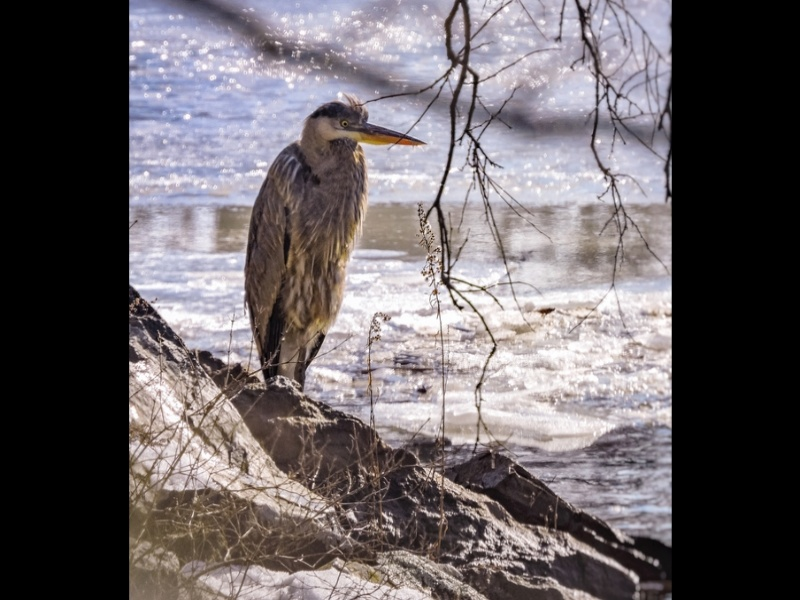heron: (239, 94, 428, 395)
